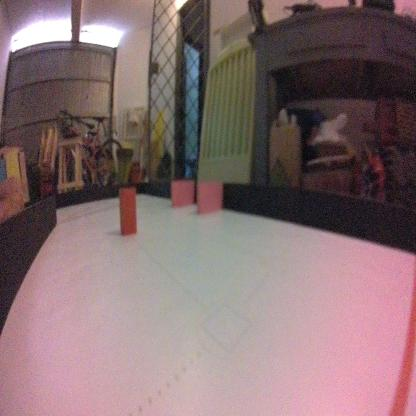magenta: (197, 181, 223, 214), (170, 178, 196, 208)
red: (116, 181, 140, 237)
